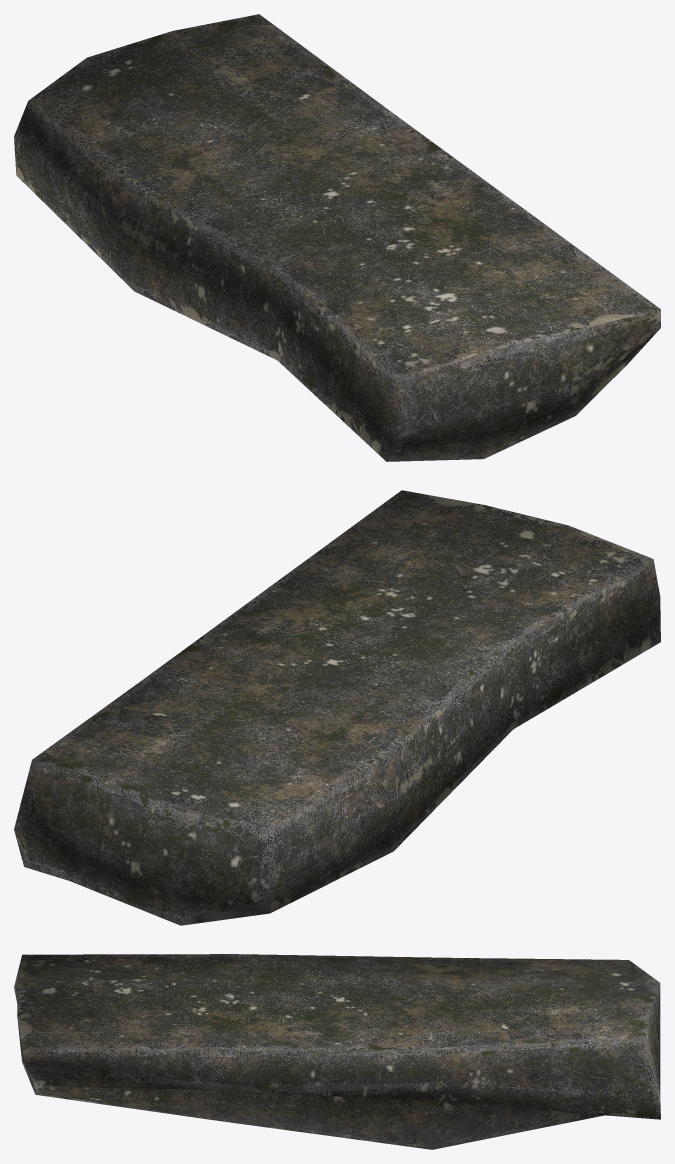
The model's file is SM_Sugu01a.fbx.
3 views of the same model, one above another, from view 1: azimuth 30°, elevation 25°; view 2: azimuth 150°, elevation 25°; view 3: azimuth 270°, elevation 25° (orthographic). The views are drawn at different scales.
Visible parts, largest first — view 1: SM_Sugu01a; view 2: SM_Sugu01a; view 3: SM_Sugu01a.
Boxes of the visible parts, x1=… form: SM_Sugu01a: x1=14, y1=14, x2=660, y2=461; SM_Sugu01a: x1=14, y1=490, x2=660, y2=925; SM_Sugu01a: x1=14, y1=954, x2=660, y2=1149.
Size of the model in its own units: 94.67 by 231 by 47.09.
1 material, 1 textured.
